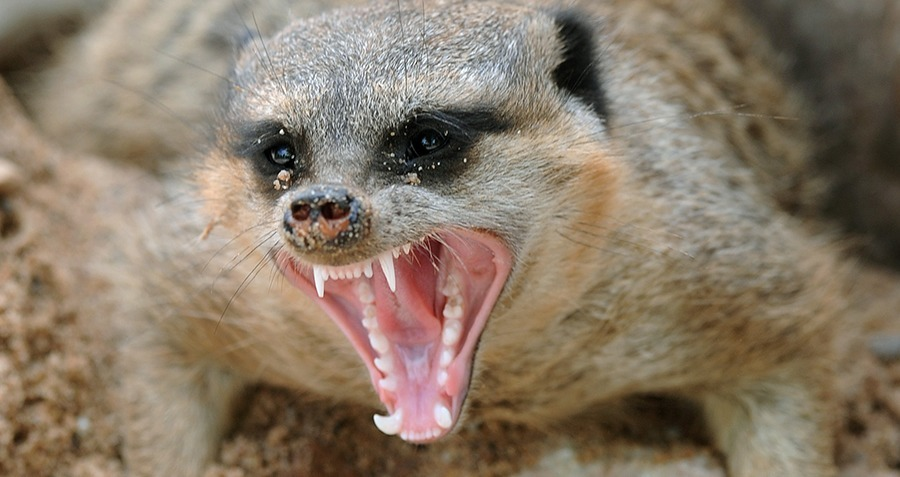meerkat: (190, 25, 766, 477)
